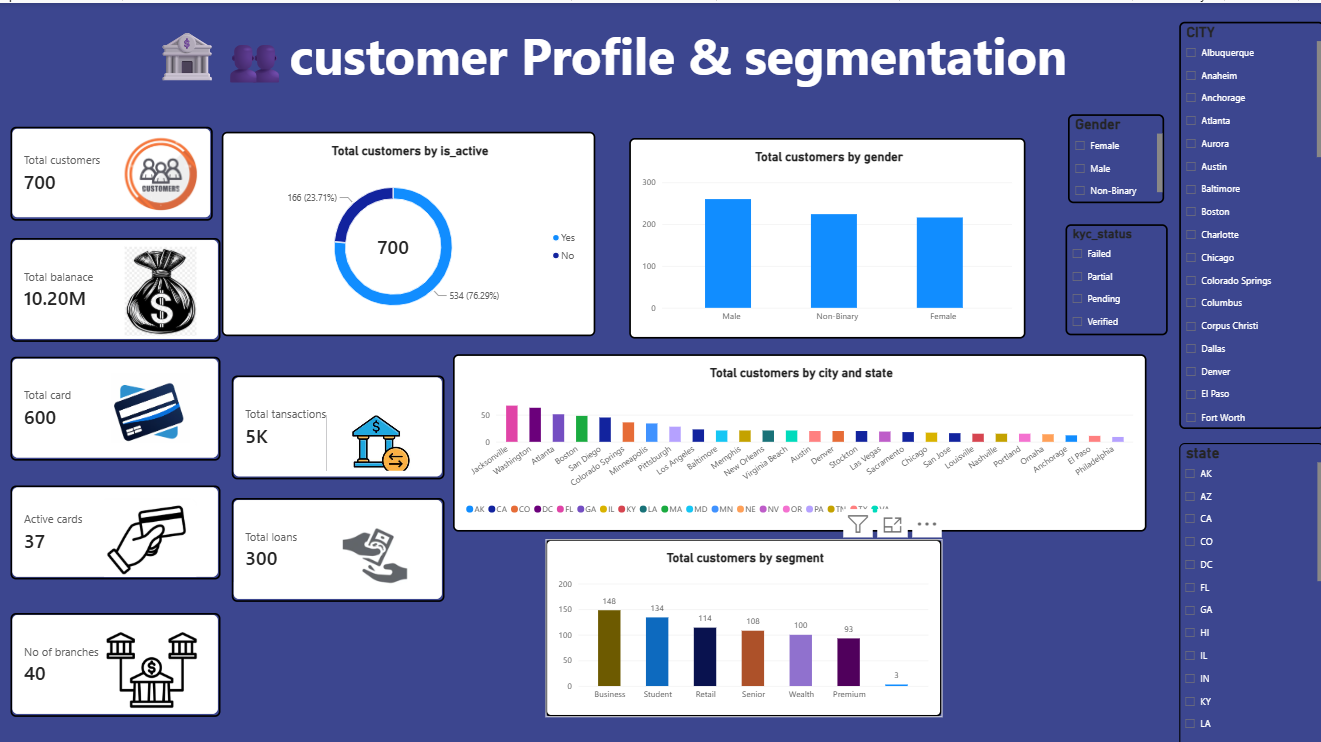

What the dashboard file says about the page in this screenshot:
{"tool":"powerbi","page":{"name":"customer Profile & segmentation","canvas":[1920,1080],"ordinal":0},"visuals":[{"type":"cardVisual","fields":{"Data":["accounts(1).Total customers"]},"box":[18.1,179.2,293.2,135.7],"z":0},{"type":"cardVisual","fields":{"Data":["accounts(1).Total balanace"]},"box":[18,340,304,150],"z":1000},{"type":"cardVisual","fields":{"Data":["accounts(1).Total card"]},"box":[18,512,304,150],"z":2000},{"type":"cardVisual","fields":{"Data":["accounts(1).Total tansactions"]},"box":[338,540,308,150],"z":3000},{"type":"cardVisual","fields":{"Data":["accounts(1).No of branches"]},"box":[18,884,304,150],"z":4000},{"type":"columnChart","fields":{"Category":["branches(1).city"],"Series":["branches(1).state"],"Y":["accounts(1).Total customers"]},"box":[658.3,508.3,1004.4,257],"z":5000},{"type":"cardVisual","fields":{"Data":["accounts(1).Active cards"]},"box":[18,698,304,136],"z":6000},{"type":"cardVisual","fields":{"Data":["accounts(1).Total loans"]},"box":[338,716,308,150],"z":7000},{"type":"textbox","box":[204.5,27.1,1496.6,119.4],"z":8000},{"type":"columnChart","fields":{"Category":["customers(1).gender"],"Y":["accounts(1).Total customers"]},"box":[913.9,195.4,573.9,290.1],"z":9000},{"type":"clusteredColumnChart","fields":{"Category":["customers(1).segment"],"Y":["accounts(1).Total customers"]},"box":[793.3,776.7,573.9,256.7],"z":10000},{"type":"donutChart","fields":{"Category":["customers(1).is_active"],"Y":["accounts(1).Total customers"]},"box":[323.9,186.4,540.5,296.3],"z":11000},{"type":"slicer","fields":{"Values":["customers(1).city"]},"box":[1710.1,27.1,209.9,589.9],"z":12000},{"type":"slicer","fields":{"Values":["customers(1).gender"]},"box":[1549.1,161.1,139.3,128.5],"z":13000},{"type":"slicer","fields":{"Values":["customers(1).kyc_status"]},"box":[1545.5,320.3,148.4,161.1],"z":14000},{"type":"slicer","fields":{"Values":["customers(1).state"]},"box":[1710.1,637,209.9,443.4],"z":15000},{"type":"image","box":[164.7,191.8,141.2,112.2],"z":16000},{"type":"image","box":[146.6,352.9,177.3,128.5],"z":17000},{"type":"image","box":[137.5,716.6,166,114],"z":18000},{"type":"image","box":[475.9,597.2,156,80],"z":19000},{"type":"image","box":[162.9,535.7,116,102],"z":20000},{"type":"image","box":[475.9,740.2,142,120],"z":21000},{"type":"image","box":[137.5,892.2,166,136],"z":22000}]}

Visuals, with their boxes in screenshot pixels (x1, y1, x2, y2), scaled from the page's 1920x1080 canvas onto the 1321x742 screenshot:
cardVisual - accounts(1).Total customers: x1=12 y1=123 x2=214 y2=216
cardVisual - accounts(1).Total balanace: x1=12 y1=234 x2=222 y2=337
cardVisual - accounts(1).Total card: x1=12 y1=352 x2=222 y2=455
cardVisual - accounts(1).Total tansactions: x1=233 y1=371 x2=444 y2=474
cardVisual - accounts(1).No of branches: x1=12 y1=607 x2=222 y2=710
columnChart - branches(1).city x branches(1).state: x1=453 y1=349 x2=1144 y2=526
cardVisual - accounts(1).Active cards: x1=12 y1=480 x2=222 y2=573
cardVisual - accounts(1).Total loans: x1=233 y1=492 x2=444 y2=595
textbox: x1=141 y1=19 x2=1170 y2=101
columnChart - customers(1).gender x accounts(1).Total customers: x1=629 y1=134 x2=1024 y2=334
clusteredColumnChart - customers(1).segment x accounts(1).Total customers: x1=546 y1=534 x2=941 y2=710
donutChart - customers(1).is_active x accounts(1).Total customers: x1=223 y1=128 x2=595 y2=332
slicer - customers(1).city: x1=1177 y1=19 x2=1320 y2=424
slicer - customers(1).gender: x1=1066 y1=111 x2=1162 y2=199
slicer - customers(1).kyc_status: x1=1063 y1=220 x2=1165 y2=331
slicer - customers(1).state: x1=1177 y1=438 x2=1320 y2=741
image: x1=113 y1=132 x2=210 y2=209
image: x1=101 y1=242 x2=223 y2=331
image: x1=95 y1=492 x2=209 y2=571
image: x1=327 y1=410 x2=435 y2=465
image: x1=112 y1=368 x2=192 y2=438
image: x1=327 y1=509 x2=425 y2=591
image: x1=95 y1=613 x2=209 y2=706
